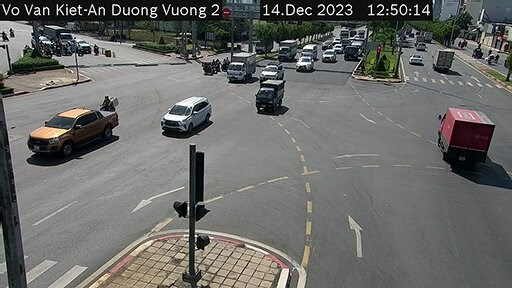car: (22, 105, 125, 158), (165, 98, 210, 134), (263, 63, 283, 86), (297, 57, 318, 68)
truck: (439, 102, 491, 169), (257, 80, 288, 117), (431, 48, 462, 74), (229, 51, 251, 80), (280, 38, 302, 62)
